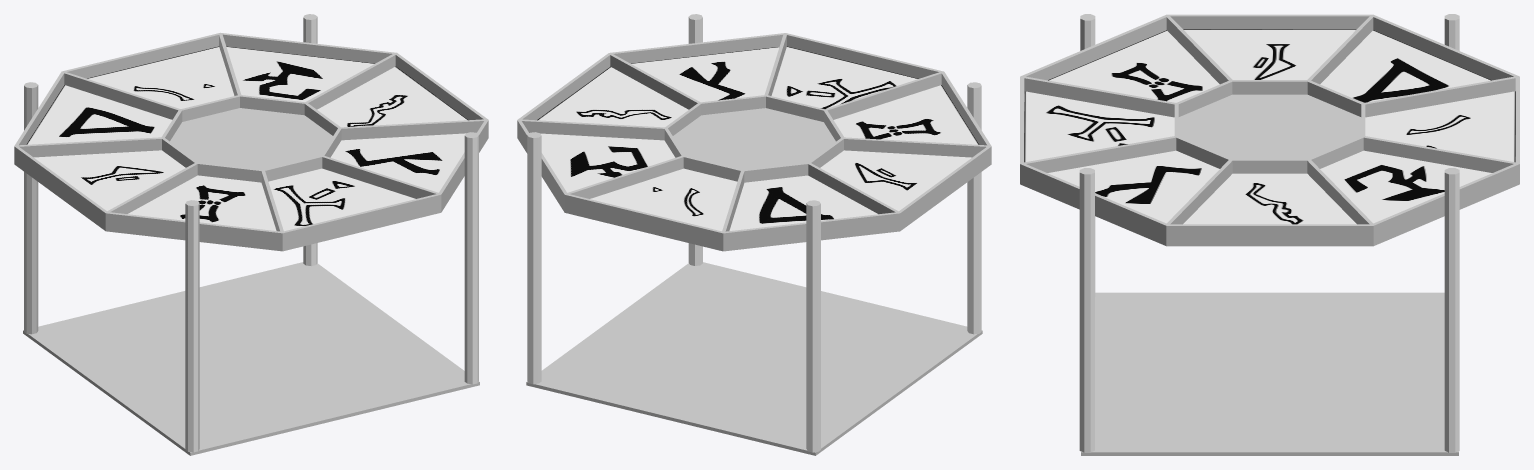
Rendered from whirlpool_table.dae.
The picture shows the model from 3 angles, left to right: view 1: azimuth 30°, elevation 25°; view 2: azimuth 150°, elevation 25°; view 3: azimuth 270°, elevation 25°; orthographic projection. The views are drawn at different scales.
Parts seen in each view (by area): view 1: Table; view 2: Table; view 3: Table.
Part boxes in pixels (x1,y1,x2,y2): Table: (14, 14, 488, 455); Table: (517, 14, 991, 455); Table: (1020, 14, 1519, 455).
Size of the model in its own units: 2.44 by 2.44 by 1.52.
3 materials, 1 textured.
